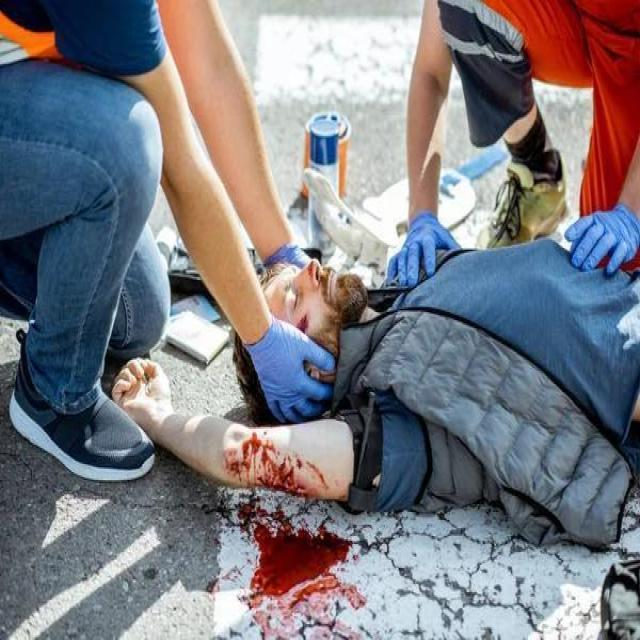flood: (194, 418, 352, 616)
